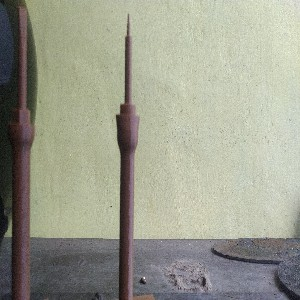obeng: (8, 6, 35, 300)
solder: (116, 11, 140, 300)
